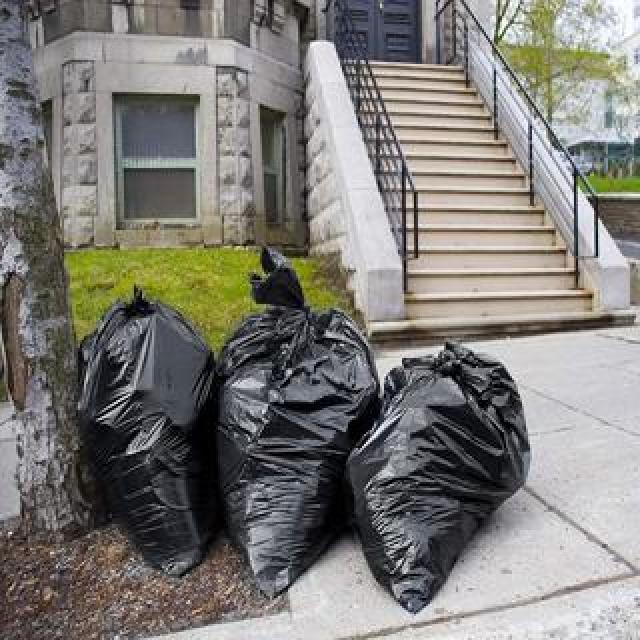high trash: (81, 251, 530, 611)
